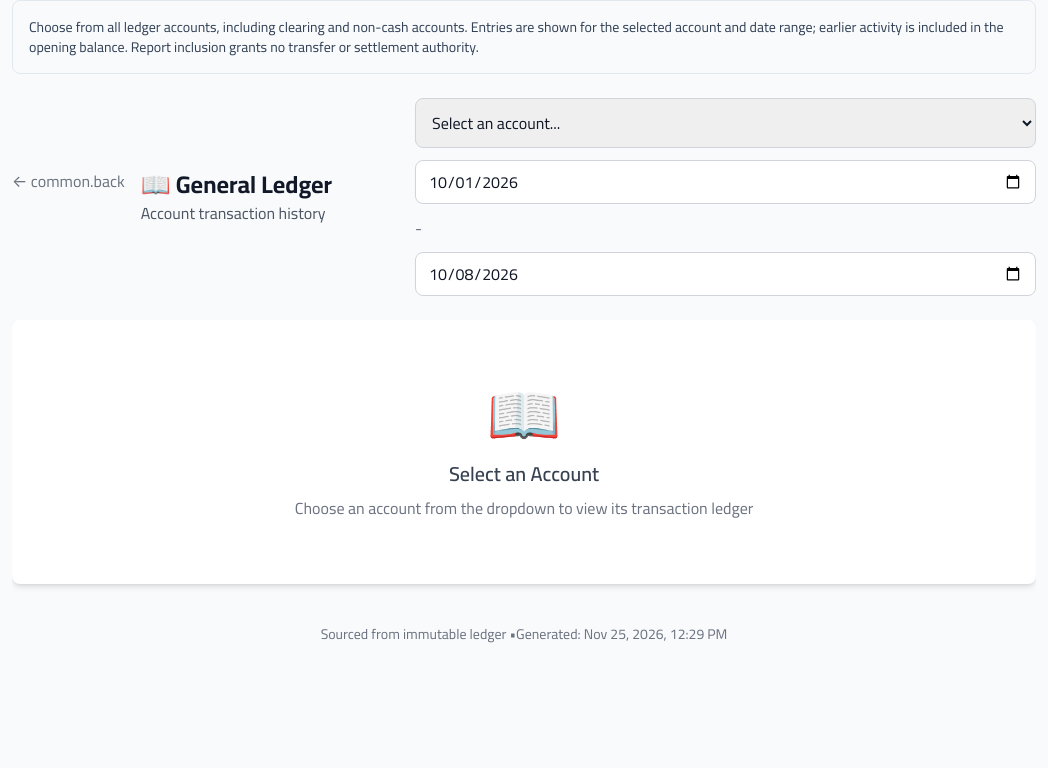
Test: General Ledger account discovery and report truth › distinguishes an empty period from missing history and preserves account/date filters in the URL
Select "1010 - Main Cashbox" in the dropdown named "Account" at (726, 123), box x1=415 y1=98 x2=1036 y2=148
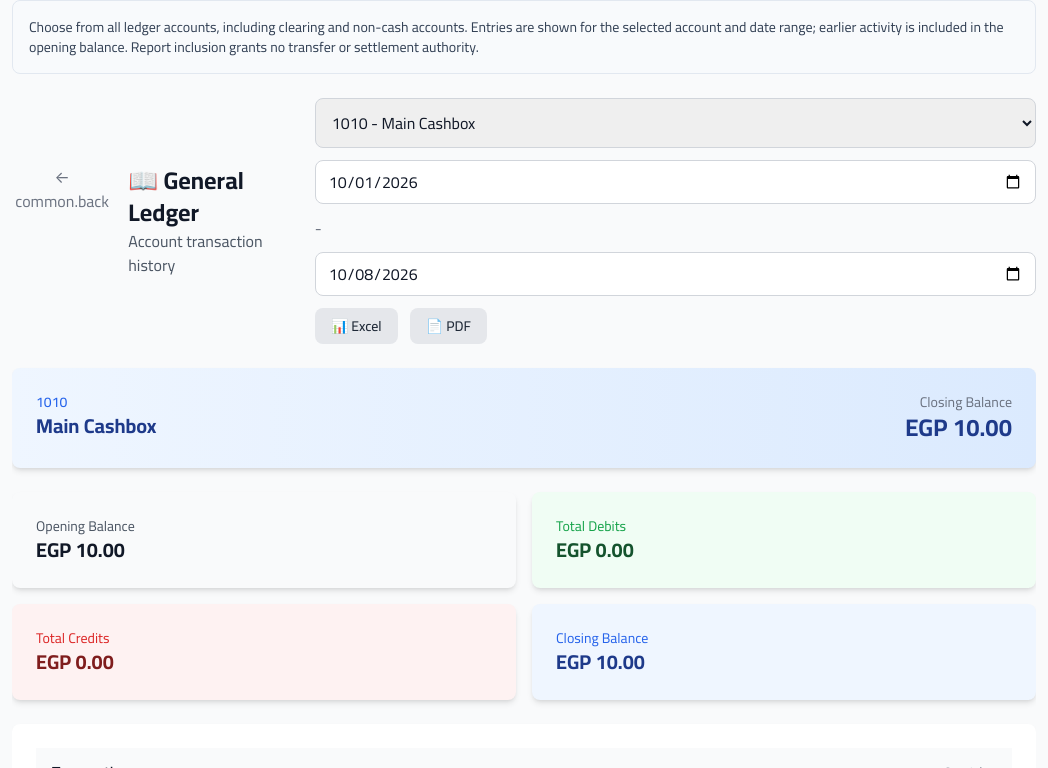
Type "2026-09-01" into the date field named "Start Date".
click(675, 182); type("2026-09-01")  # box x1=315 y1=160 x2=1036 y2=204
(page scrolled)
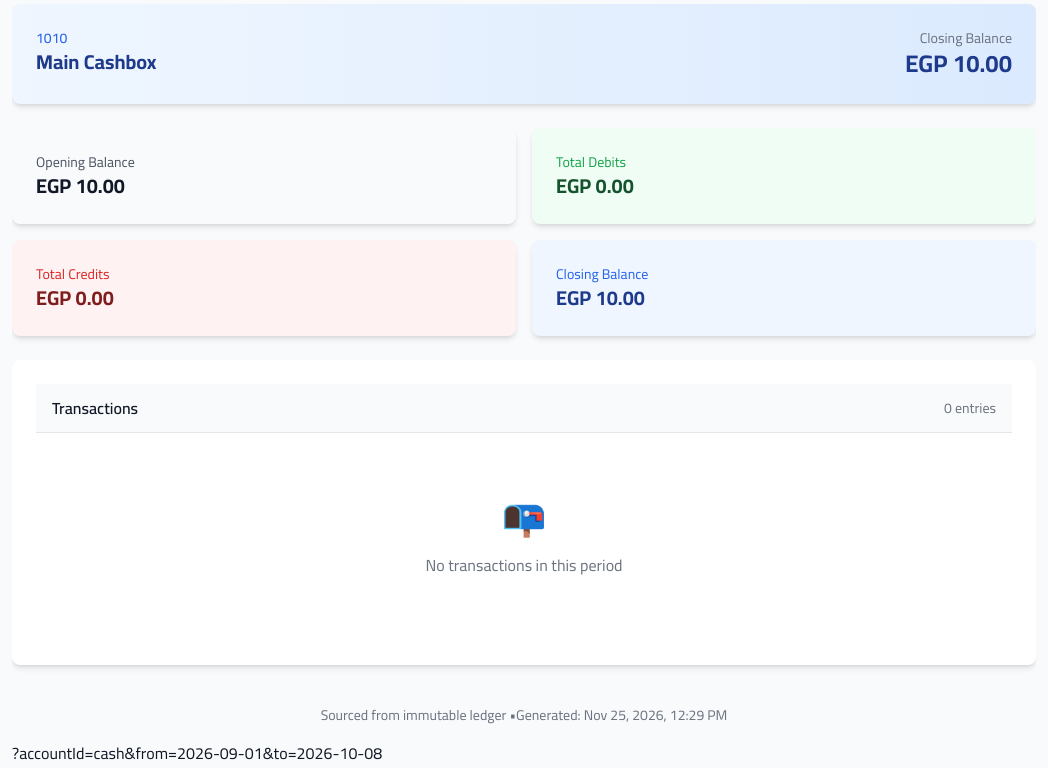
Expected: the text with test id "location" shows "accountId=cash", x1=12 y1=738 x2=382 y2=767
Expected: the text with test id "location" shows "to=2026-10-08", x1=12 y1=738 x2=382 y2=767
Expected: the text with test id "location" shows "from=2026-09-01", x1=12 y1=738 x2=382 y2=767
